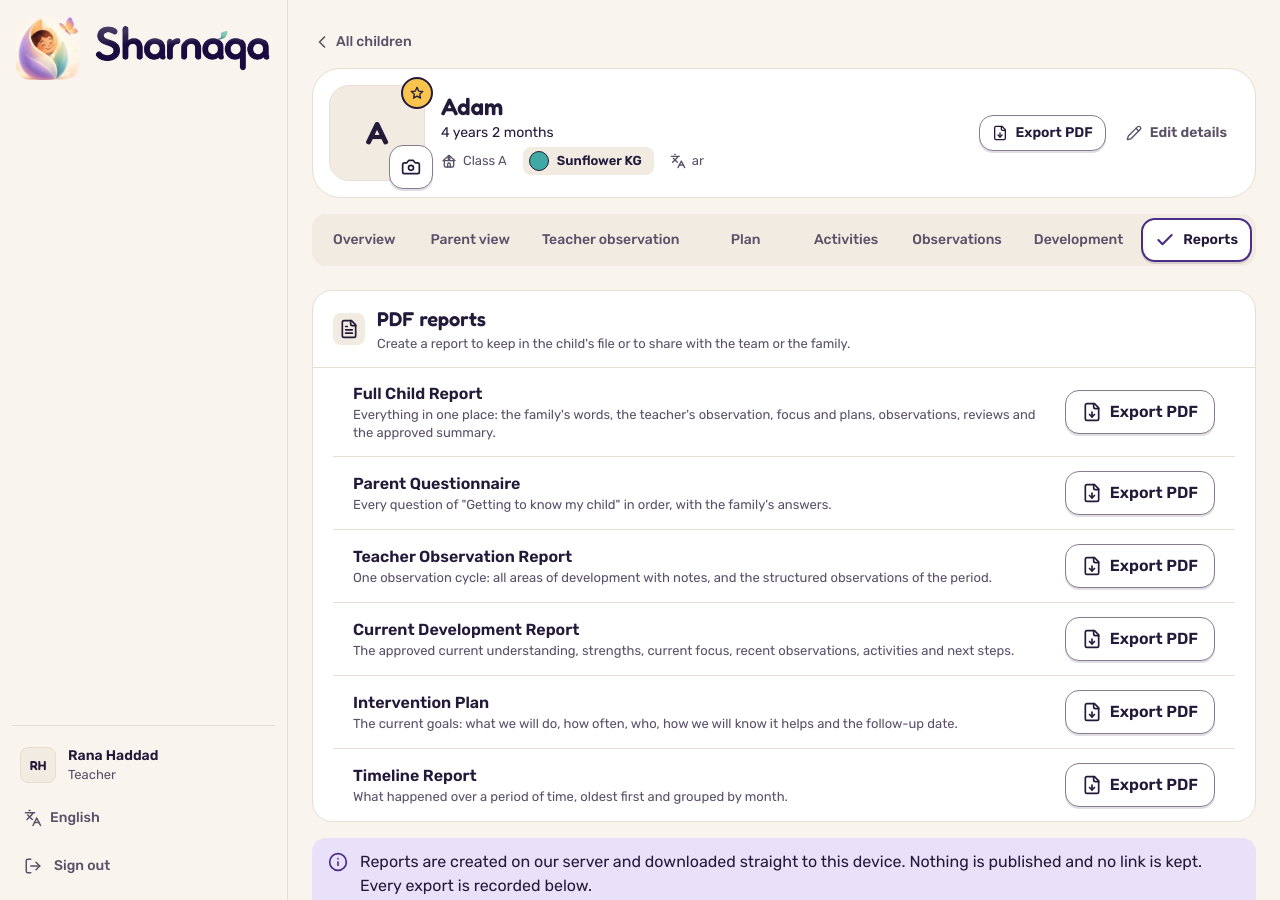
Test: Reports tab › sends the include flags, downloads the blob and revokes the object URL
Click the button with aria-label "Export PDF: Full Child Report" at {"x": 1140, "y": 412}, box [1065,390,1215,434]
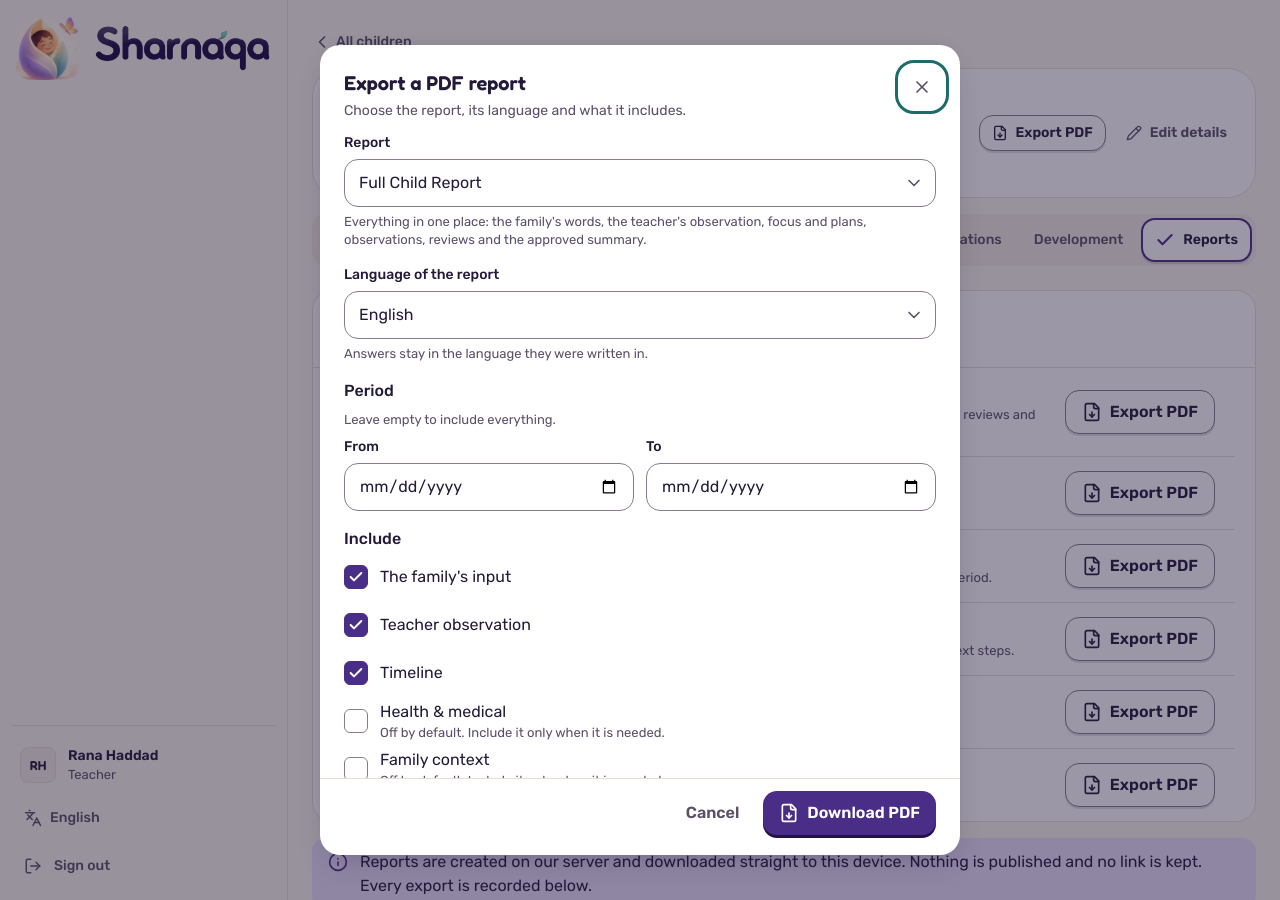
Expected: the checkbox labelled "Health & medical" is not checked
Expected: the checkbox labelled "The family's input" is checked, [344,565,368,589]
Click the checkbox labelled "Health & medical" at {"x": 356, "y": 721}, box [344,709,368,733]
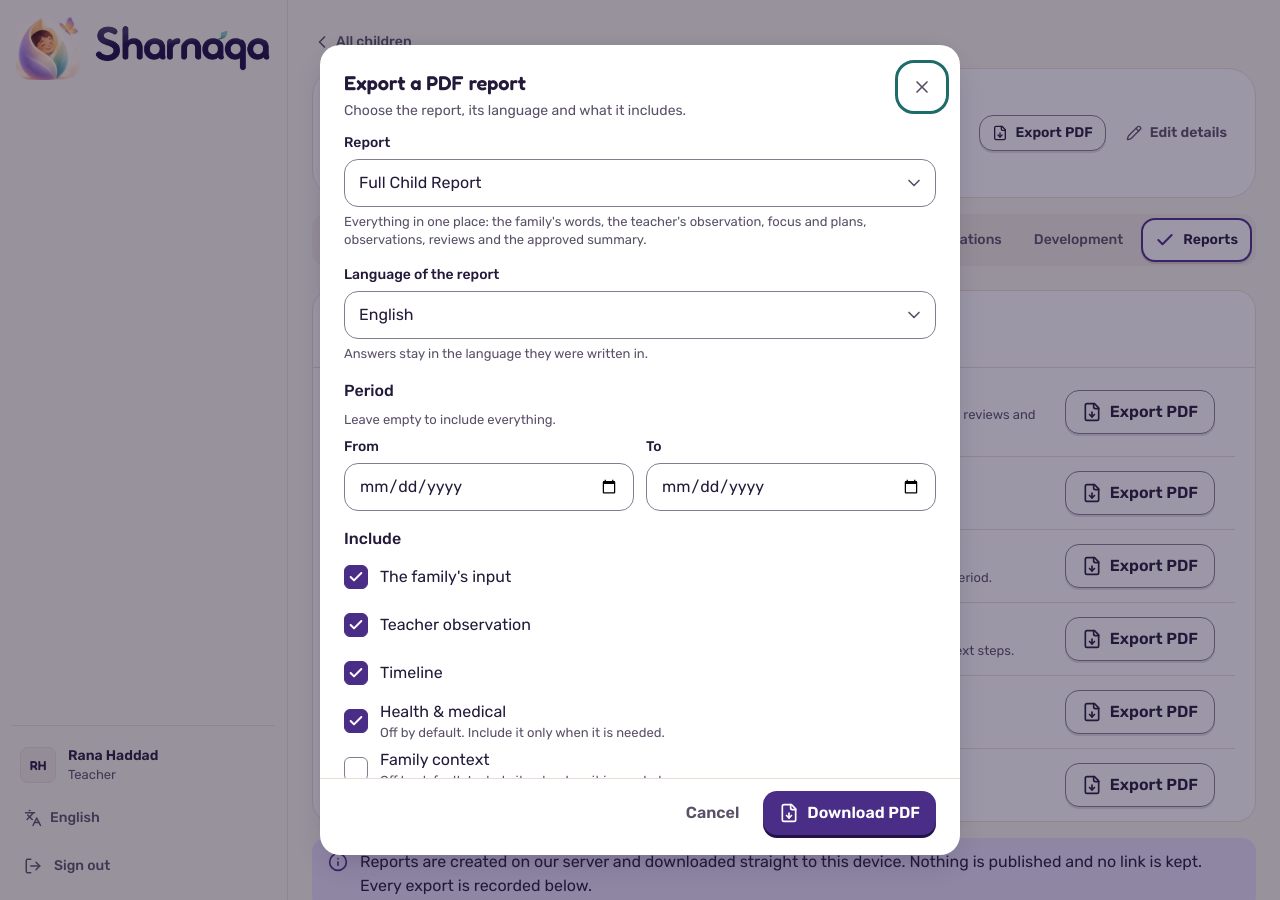
Select "العربية" in the dropdown labelled "Language of the report" at {"x": 640, "y": 315}, box [344,291,936,339]
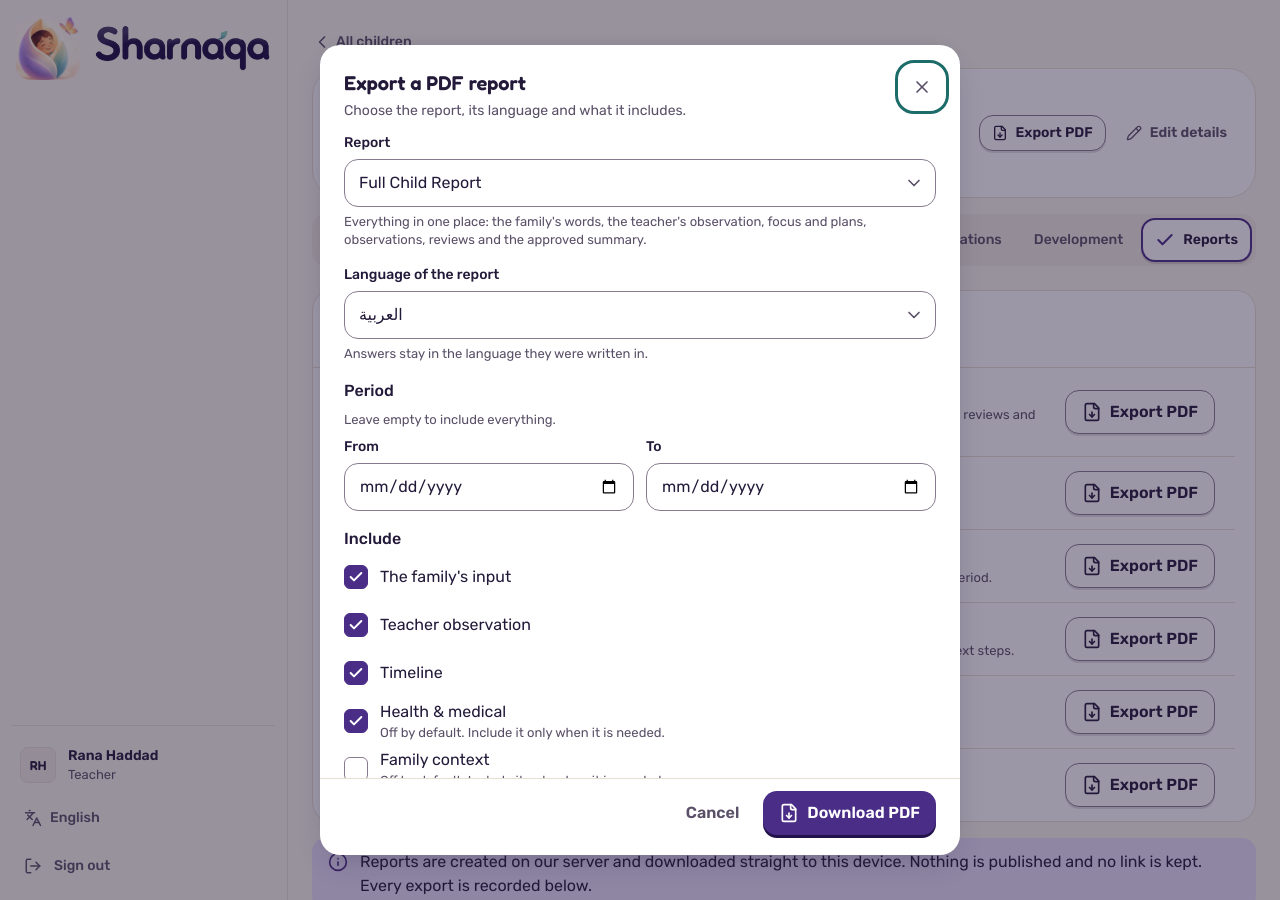
Type "2026-09-01" into the date field labelled "From" at {"x": 489, "y": 487}, box [344,463,634,511]
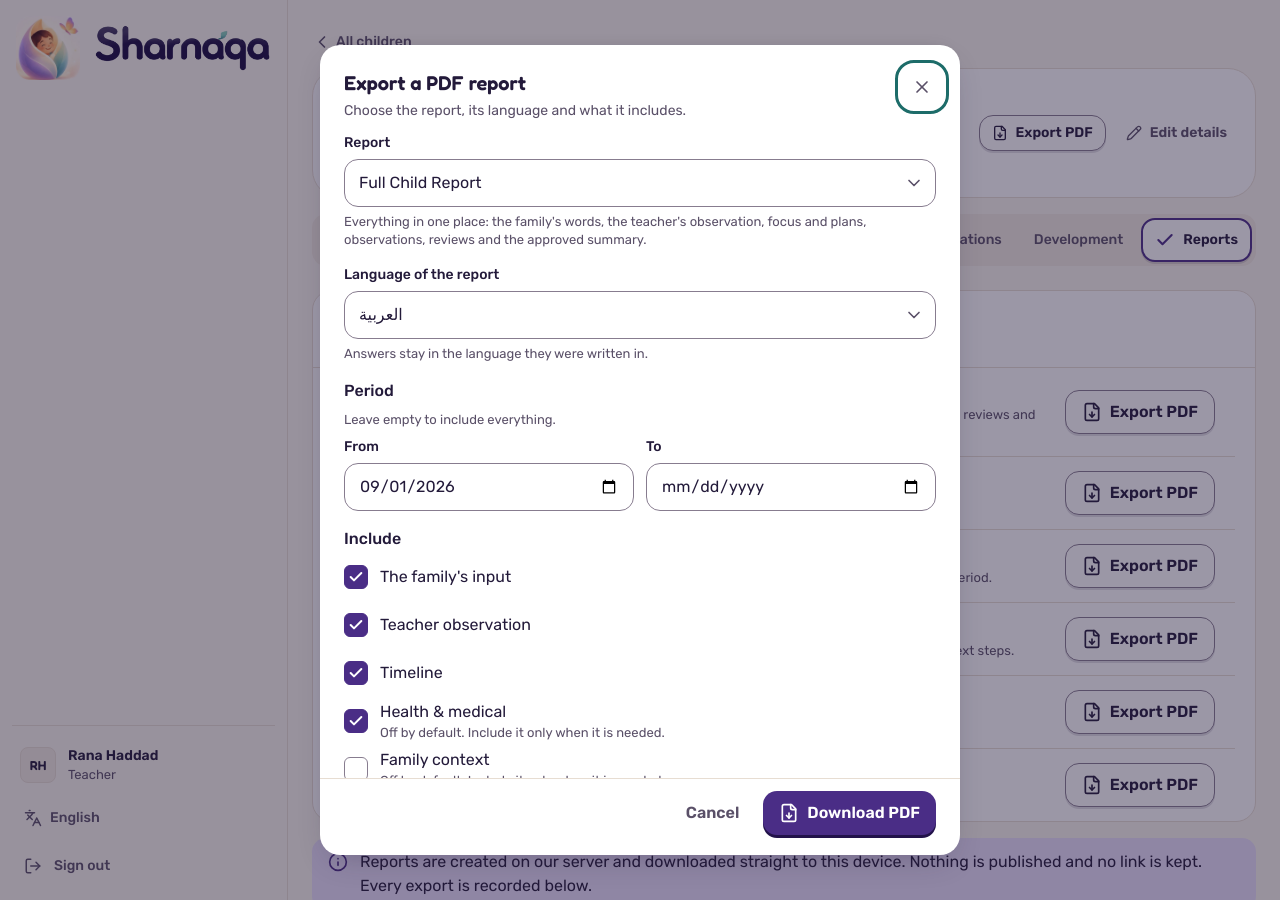
Click the button "Download PDF" at {"x": 850, "y": 813}, box [763,791,936,835]
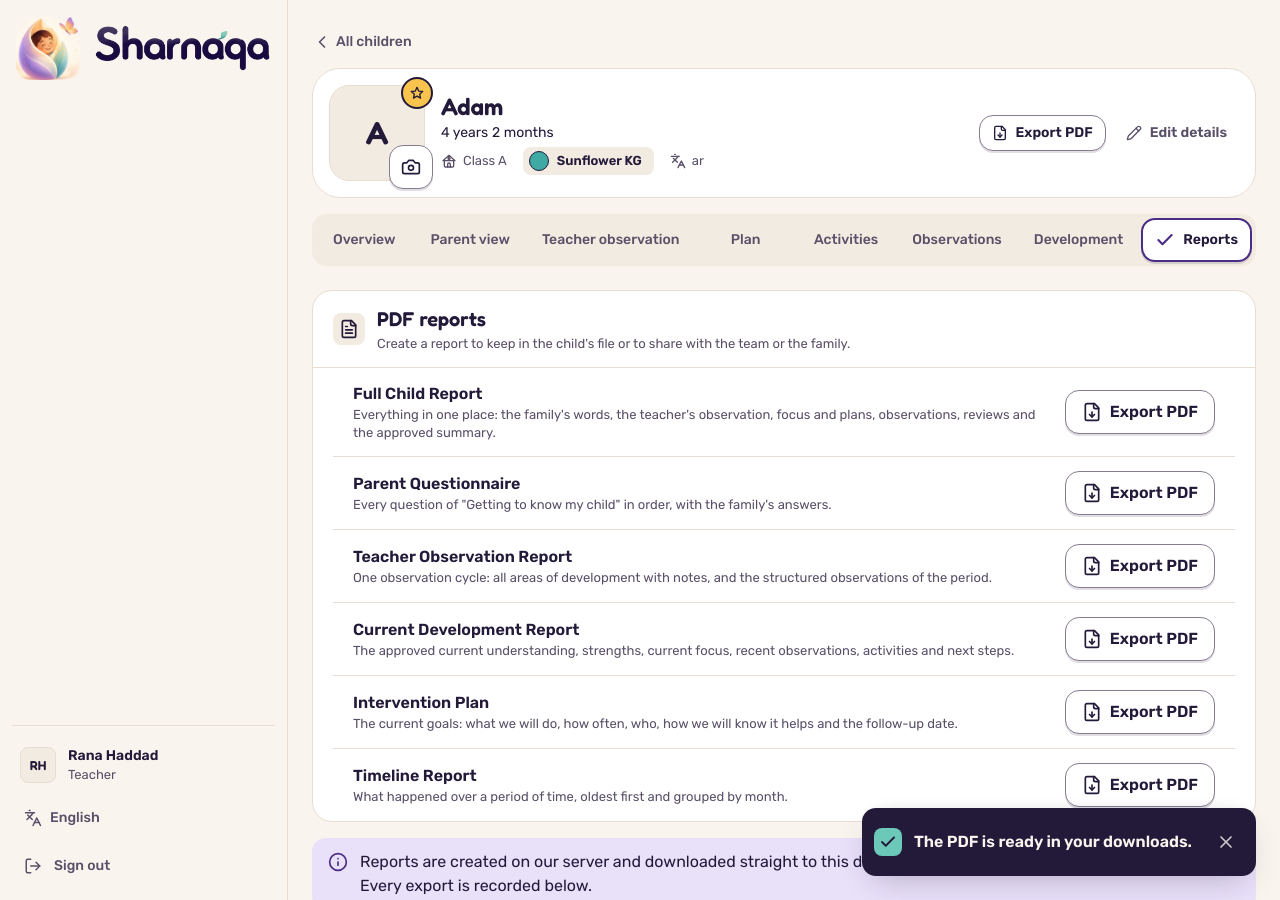
Expected: the text "The PDF is ready in your downloads." is shown, [914,830,1192,854]
